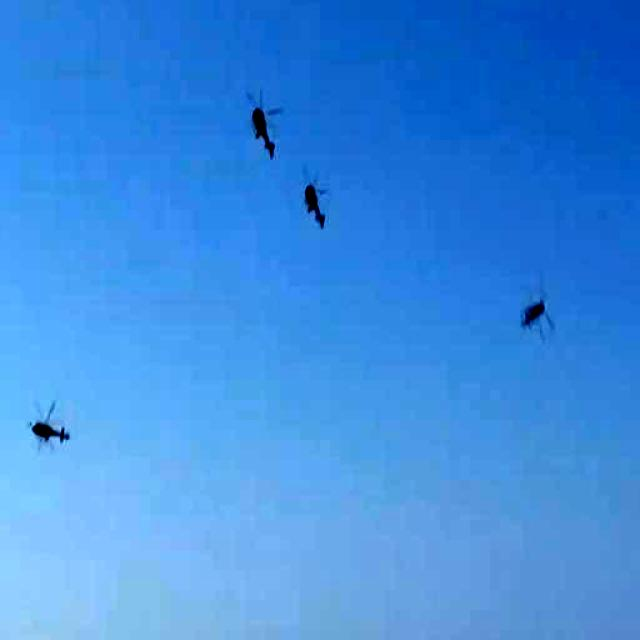drone: (244, 90, 288, 166), (294, 166, 336, 232), (28, 395, 72, 455), (515, 285, 550, 339)
